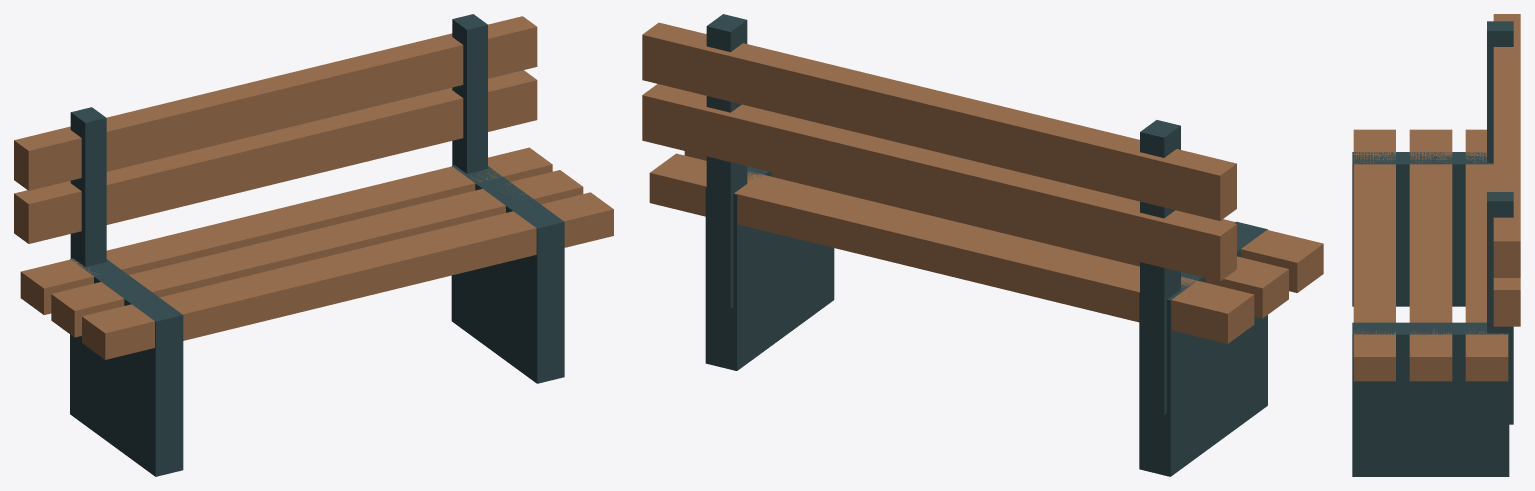
Rendered from wooden-bench.glb.
3 views of the same model, side by side, from view 1: azimuth 30°, elevation 25°; view 2: azimuth 150°, elevation 25°; view 3: azimuth 270°, elevation 25° (orthographic). The views are drawn at different scales.
Visible parts, largest first — view 1: wooden-bench; view 2: wooden-bench; view 3: wooden-bench.
Boxes of the visible parts, x1,y1,x2,y2 form: wooden-bench: [14, 14, 613, 476]; wooden-bench: [642, 14, 1323, 476]; wooden-bench: [1352, 14, 1520, 476].
Size of the model in its own units: 2.4 by 1.35 by 0.75.
